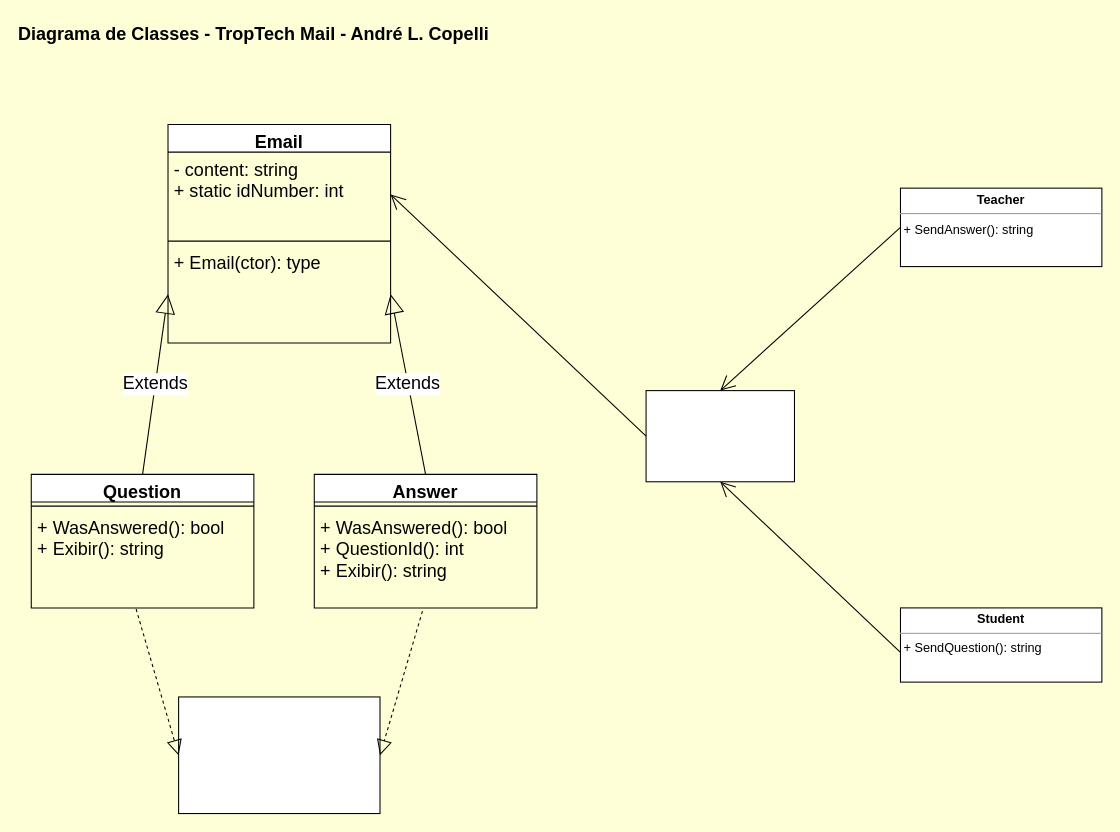
Image size: 1120x832. Some labels were removed from this diagram. The shapes that lost their labels are listed below. From the top down, each one's centre as x and y in pixels, then its label:
At point 719,436: "Main + MainMenu(): void + StudentMenu(): void + TeacherMenu(): void".
At point 279,755: "<<Interface>> IDisplayableEmail + Exibir(): String".
